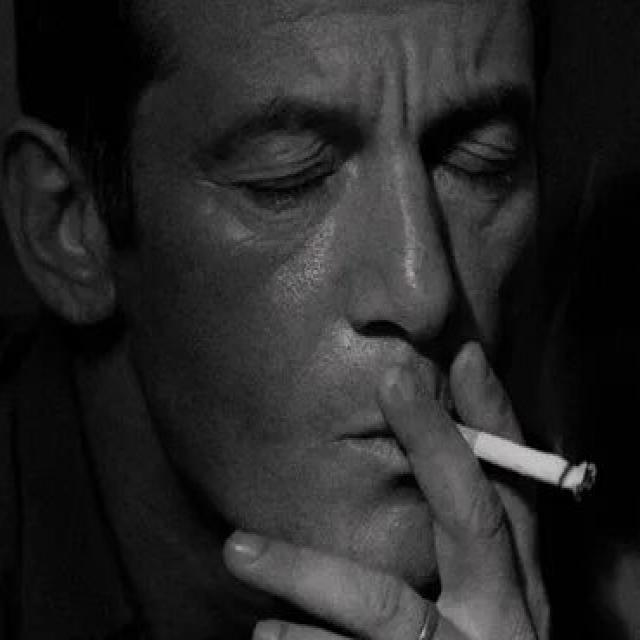smoke: (441, 416, 597, 498)
